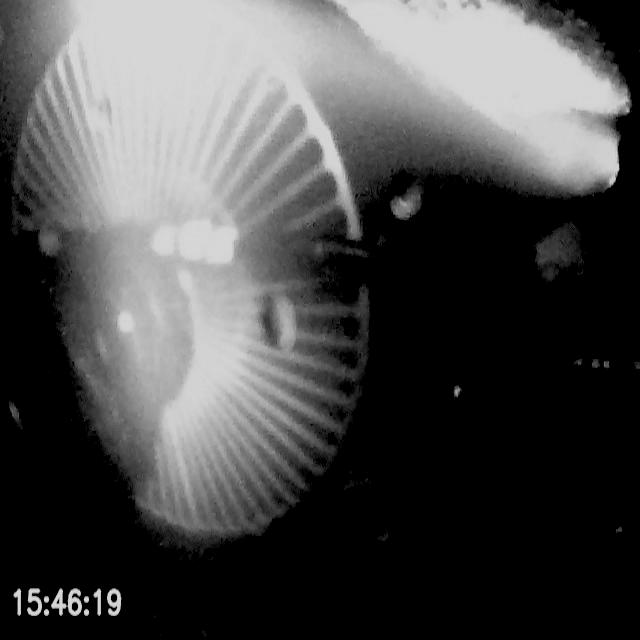head: (530, 212, 640, 315)
white-dots: (150, 217, 240, 264)
